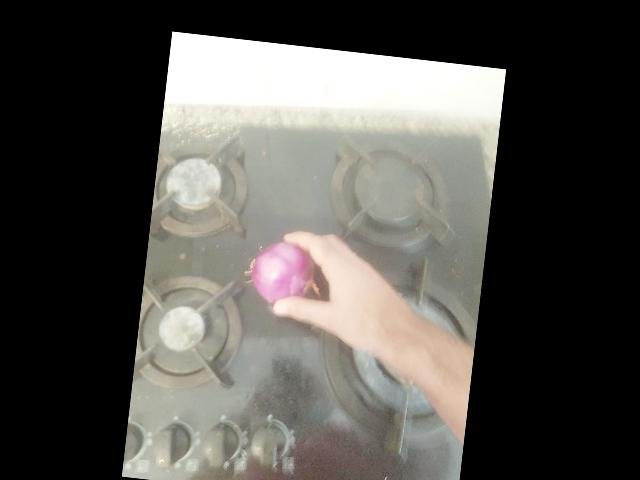onion: (220, 149, 301, 222)
